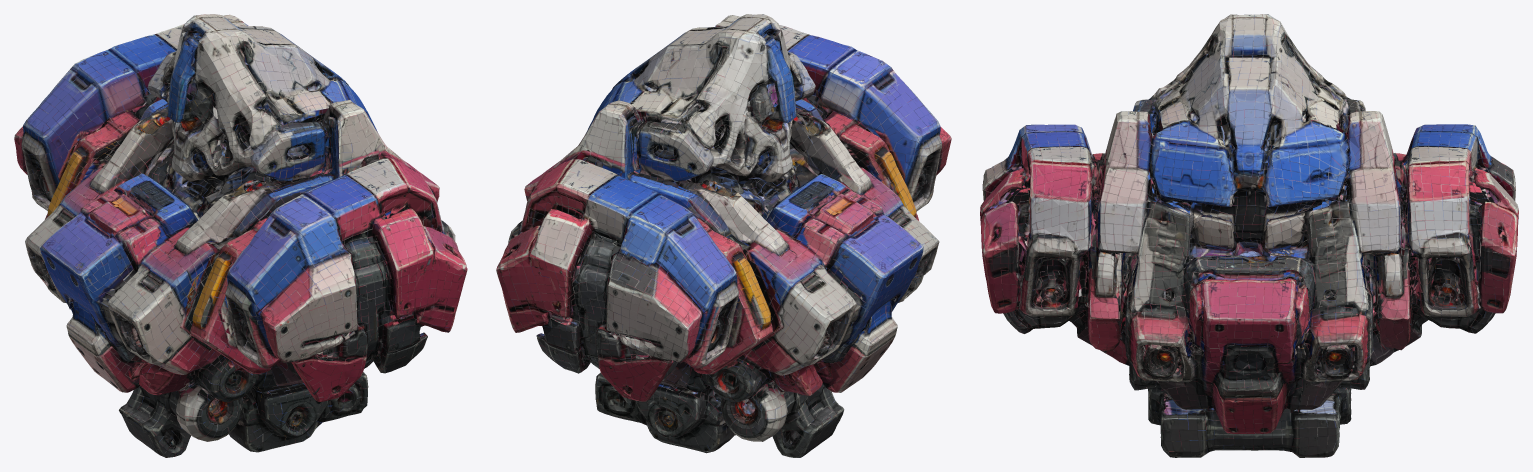
File: MechaBody_Low.fbx
The picture shows the model from 3 angles, left to right: view 1: azimuth 30°, elevation 25°; view 2: azimuth 150°, elevation 25°; view 3: azimuth 270°, elevation 25°; orthographic projection.
Parts seen in each view (by area): view 1: MechaBody_Low; view 2: MechaBody_Low; view 3: MechaBody_Low.
Boxes of the visible parts, x1,y1,x2,y2 form: MechaBody_Low: (14, 14, 467, 457); MechaBody_Low: (496, 14, 951, 457); MechaBody_Low: (980, 14, 1518, 457).
Size of the model in its own units: 76.77 by 83.5 by 99.86.
Materials: 1 (1 with a texture image).
